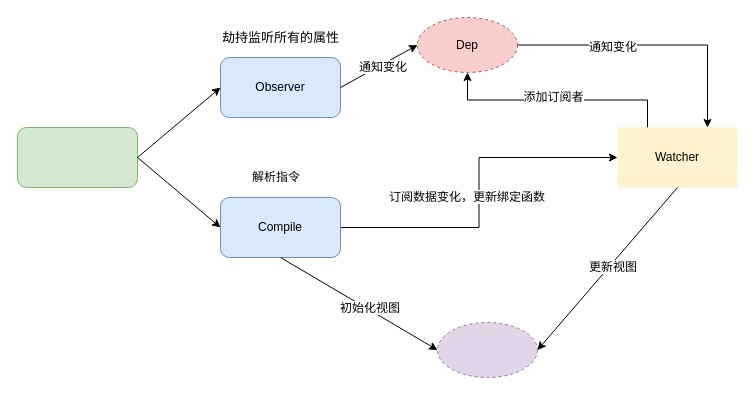
Image size: 755x395. Some labels were removed from this diagram. The shapes that lost their labels are listed below. From the top down, each one's centre as x and y in pixels, then its label:
At (77,157): "new MVVM()".
At (487,350): "Update".
